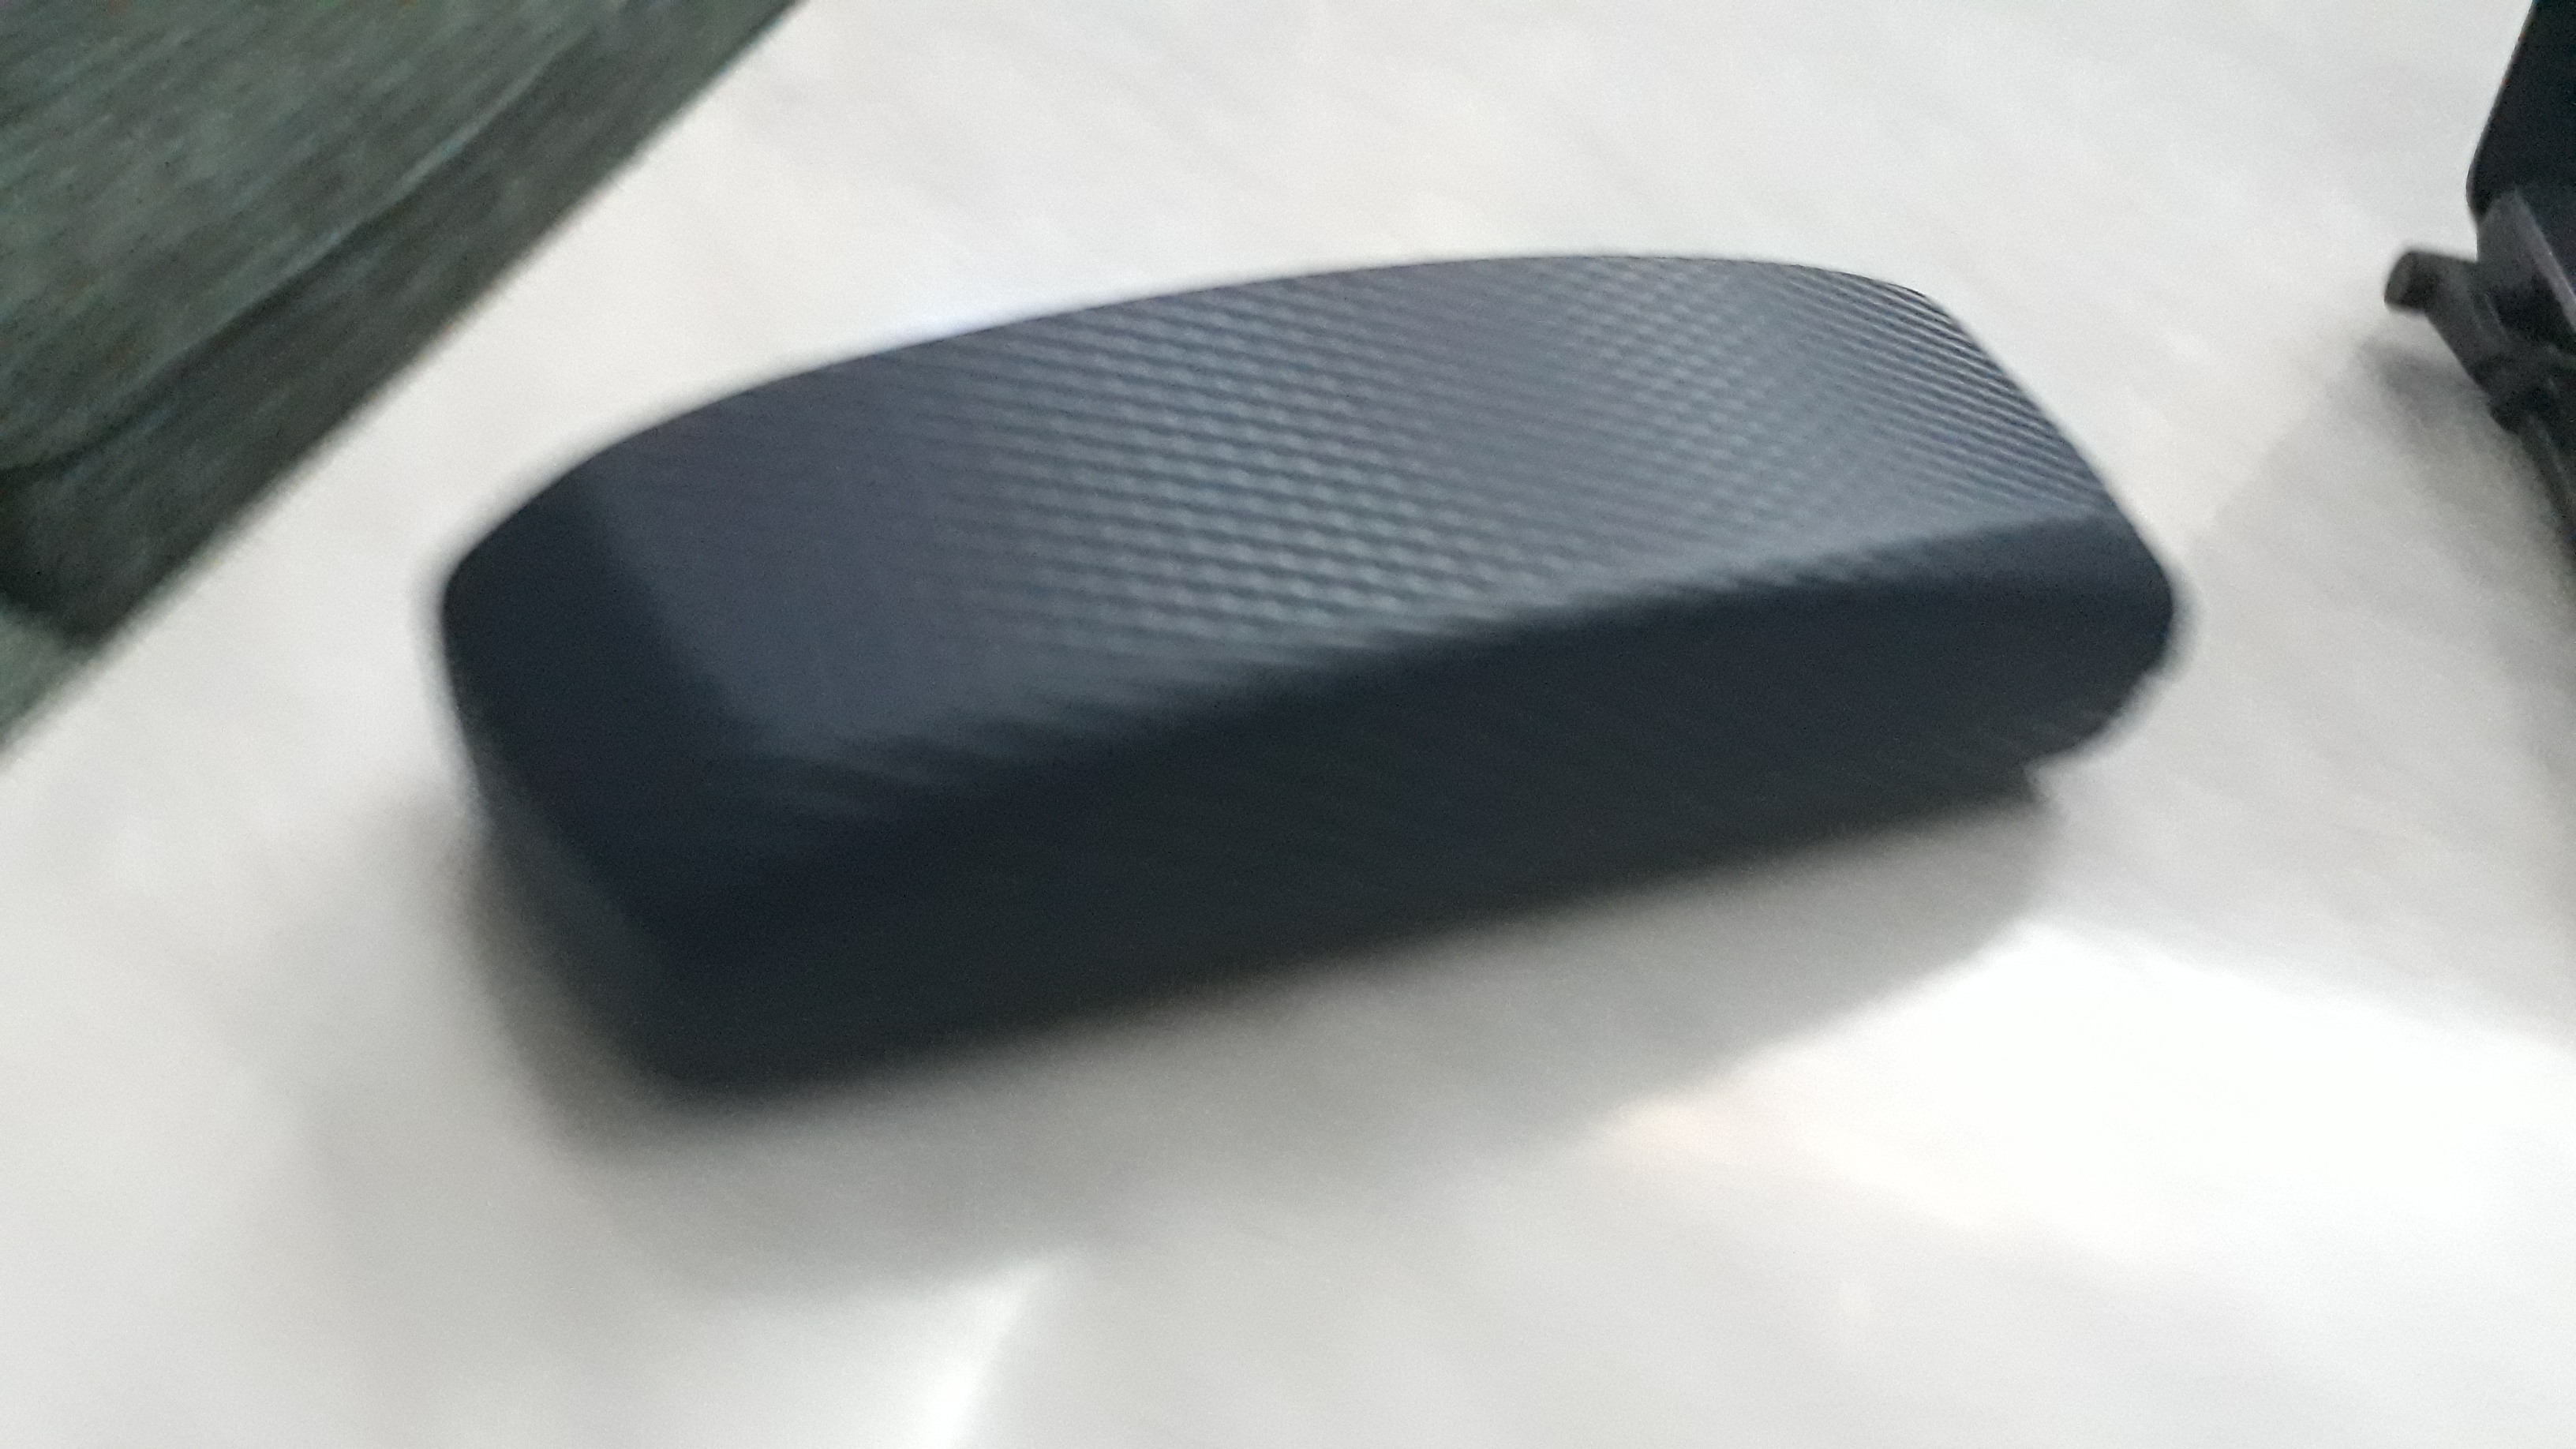nadar: (382, 126, 2215, 1076)
